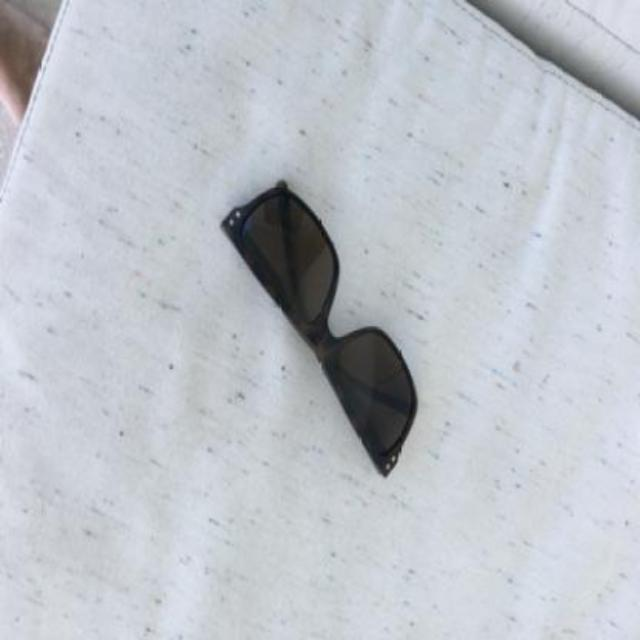sunglasses: (218, 179, 418, 477)
